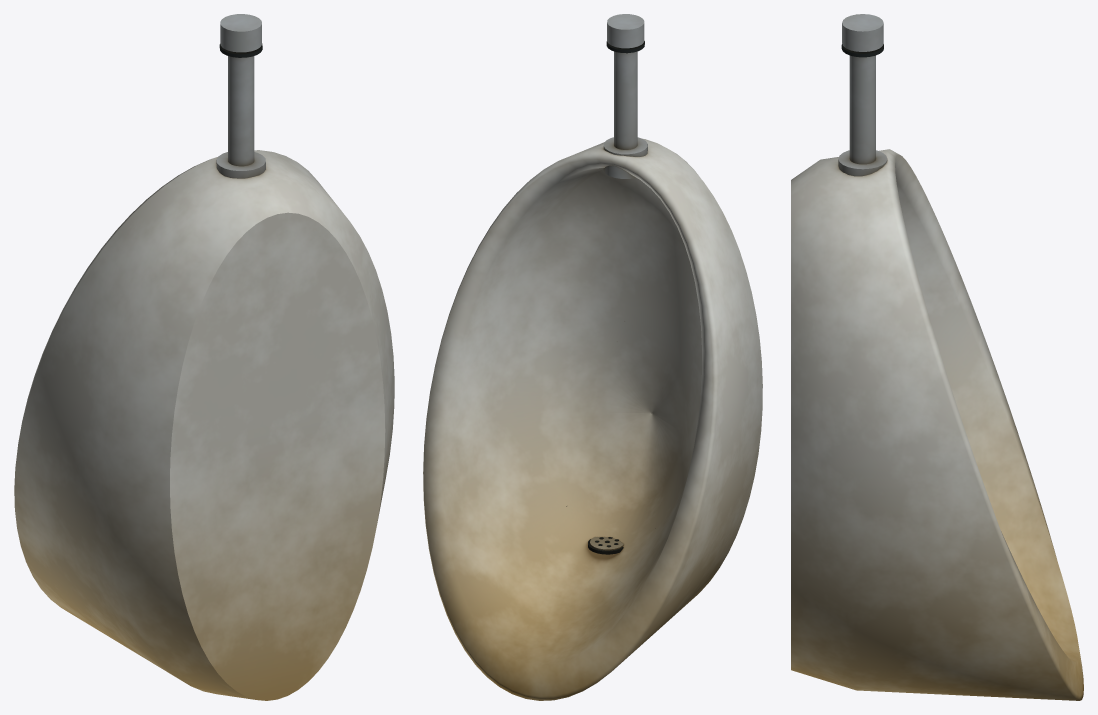
File: mictorio_sujo_realista.glb
The picture shows the model from 3 angles, left to right: view 1: azimuth 30°, elevation 25°; view 2: azimuth 150°, elevation 25°; view 3: azimuth 270°, elevation 25°; orthographic projection. The views are drawn at different scales.
Visible parts, largest first — view 1: Mictorio; view 2: Mictorio; view 3: Mictorio.
Part boxes in pixels (left/top/right/bottom): Mictorio: left=14, top=14, right=394, bottom=700; Mictorio: left=423, top=14, right=762, bottom=700; Mictorio: left=791, top=14, right=1083, bottom=700.
Bounding box in the file's own units: 0.38 × 0.78 × 0.31.
1 material, 1 textured.
